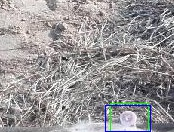text: (110, 103, 148, 132)
